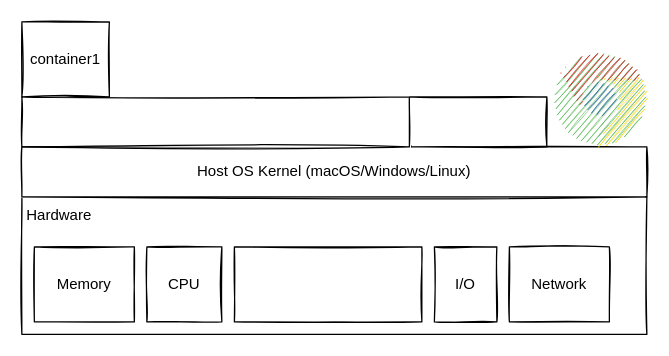
Some shapes in this 669 by 356 pixel diagram are drawn without their labels. The centre of each missing label's shape, as x and y in pixels:
Docker server/engine/daemon provides Linux Kernel: the point at 215,121
Host OS Inrerpreter+utilities: the point at 477,121
Storage: the point at 327,284
